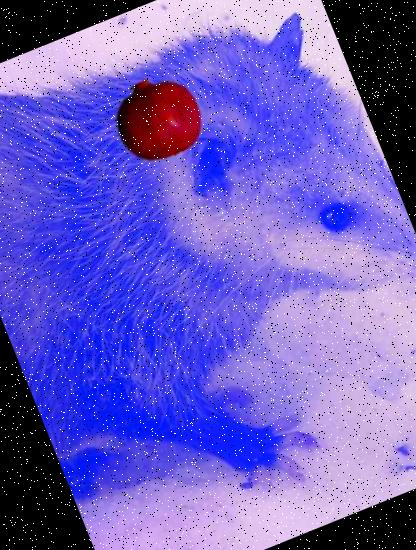Pomegranate: (100, 62, 214, 174)
